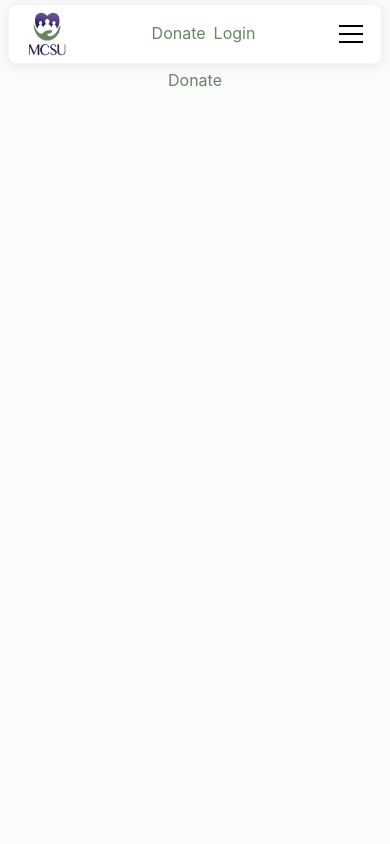
it: Header › Mobile Navigation › opens drawer when burger is clicked
The image size is (390, 844).
Click the 3rd button: (351, 34) top-left (337, 20), bottom-right (365, 48)
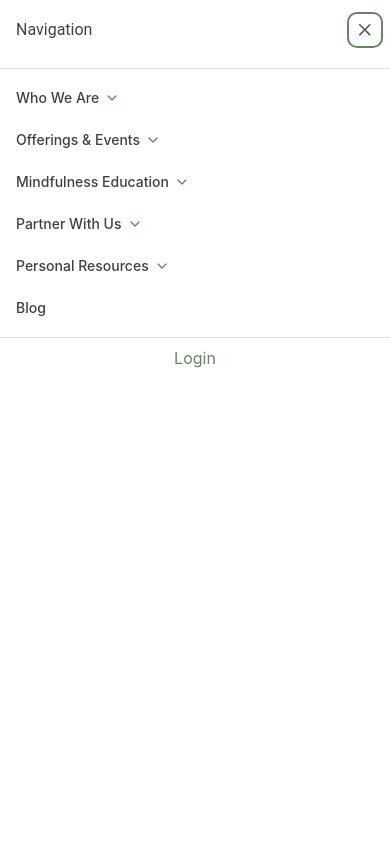
Now the heading "Navigation" is shown, box top-left (16, 22), bottom-right (92, 38)
